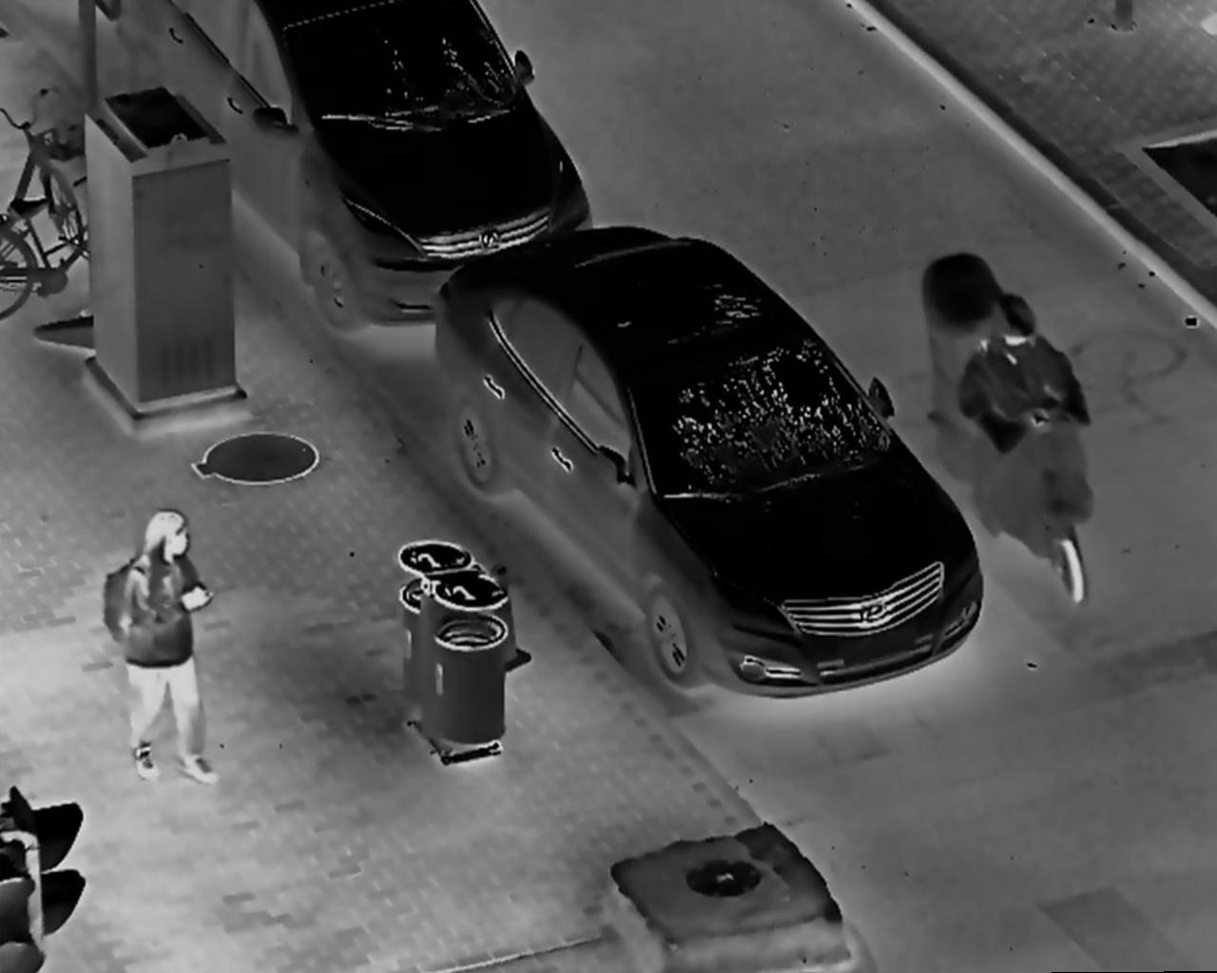person: (96, 506, 225, 791), (959, 291, 1091, 523)
